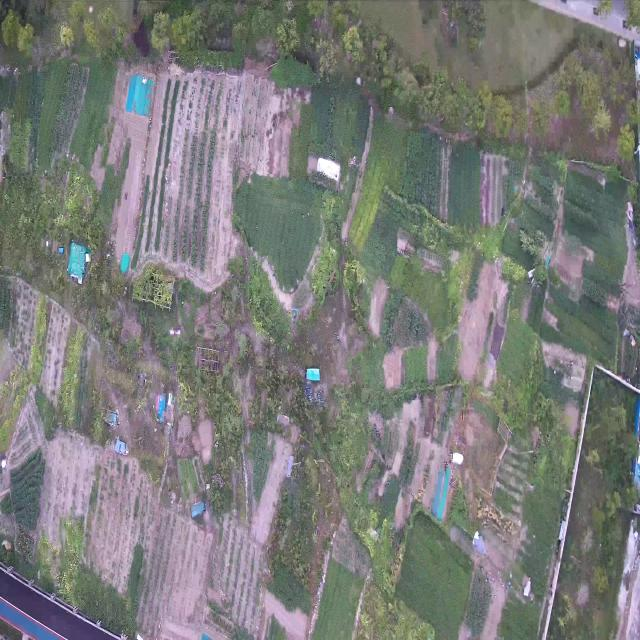UAV: (276, 451, 302, 482)
